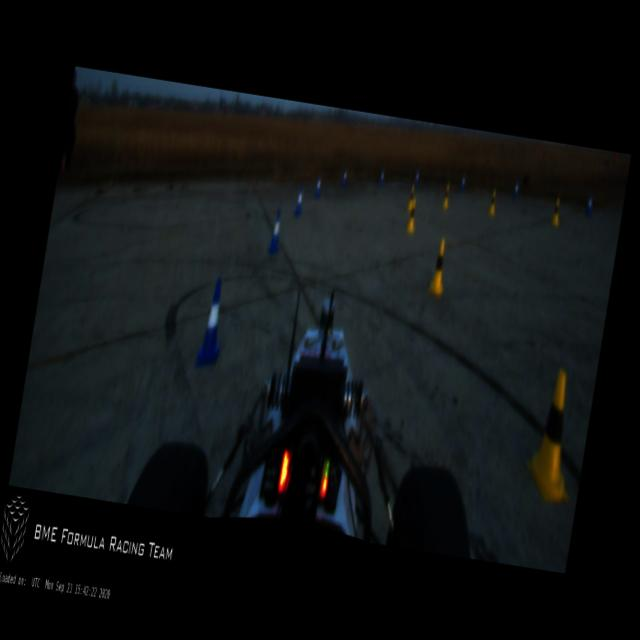blue_cone: (194, 276, 230, 371), (268, 208, 286, 255), (294, 185, 306, 218), (585, 194, 595, 217), (314, 175, 323, 198), (512, 178, 520, 198), (414, 170, 421, 190), (341, 168, 348, 188), (460, 175, 466, 191), (379, 171, 385, 187)
yellow_cone: (520, 364, 589, 506), (428, 236, 452, 296), (406, 198, 419, 234), (551, 196, 563, 226), (487, 188, 499, 216), (442, 182, 452, 210), (407, 184, 416, 210)
